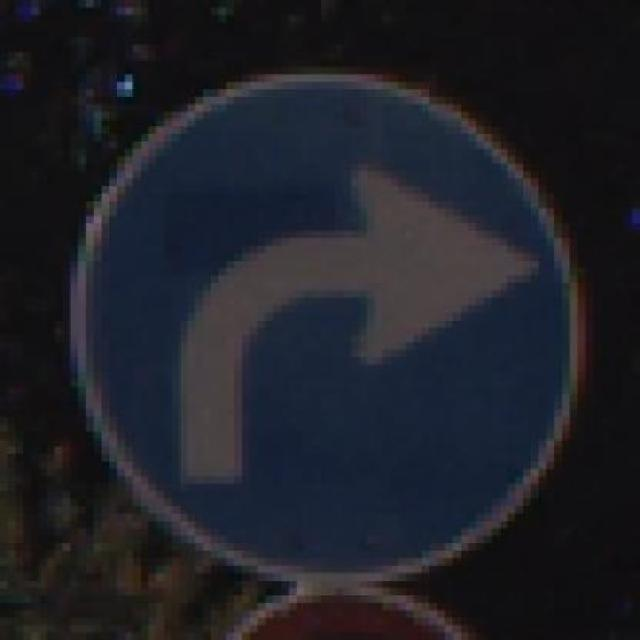Turn right ahead: (70, 67, 608, 588)
